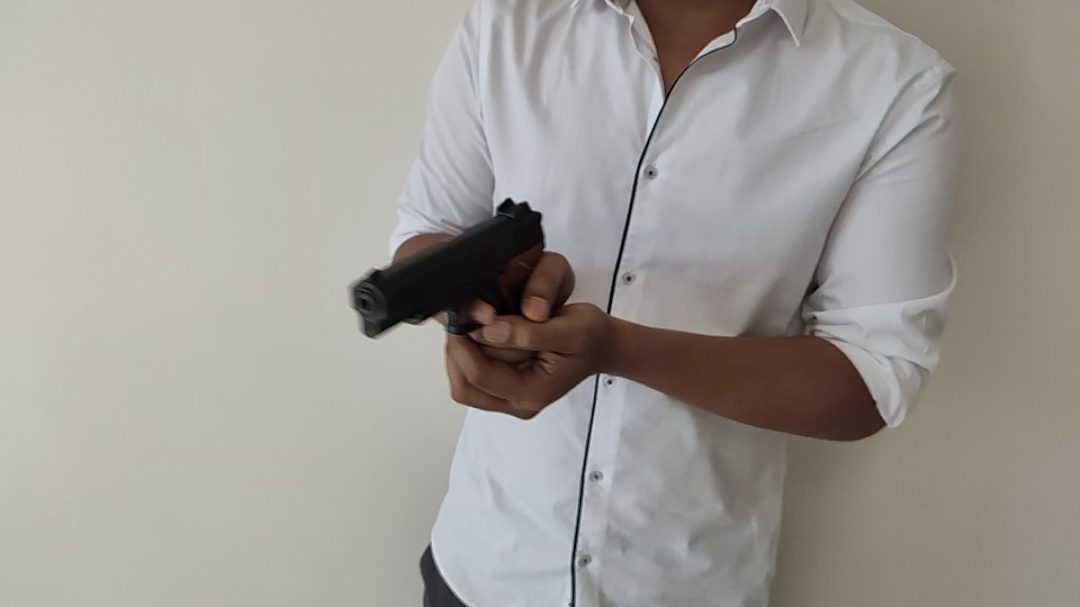gun: (349, 198, 549, 341)
